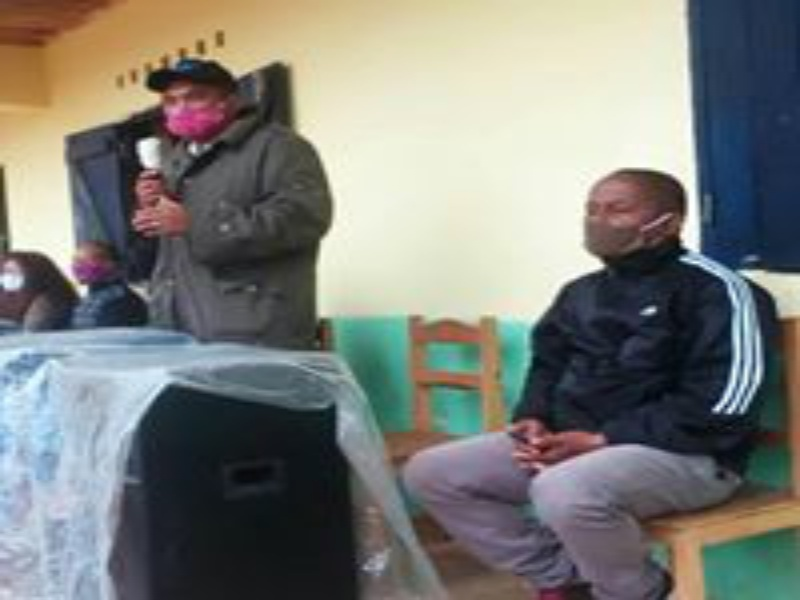ManaoArotava: (566, 162, 666, 266), (144, 63, 242, 150)
